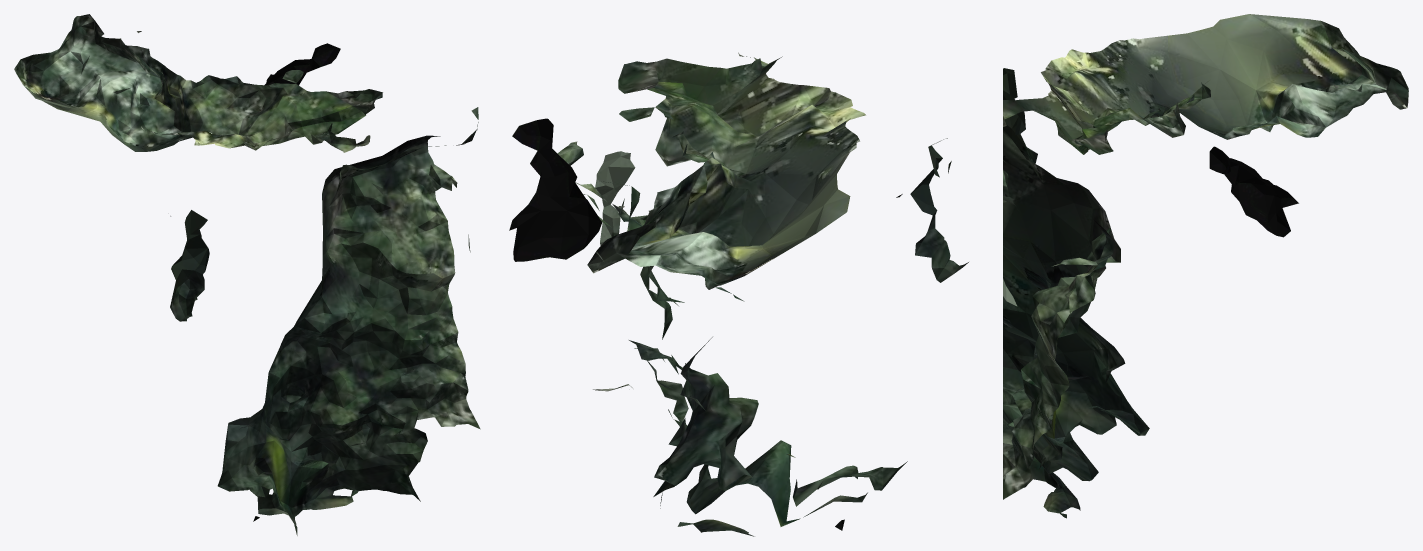
The picture shows the model from 3 angles, left to right: view 1: azimuth 30°, elevation 25°; view 2: azimuth 150°, elevation 25°; view 3: azimuth 270°, elevation 25°; orthographic projection. The views are drawn at different scales.
Size of the model in its own units: 23.06 by 26.11 by 24.67.
3 materials, 3 textured.
